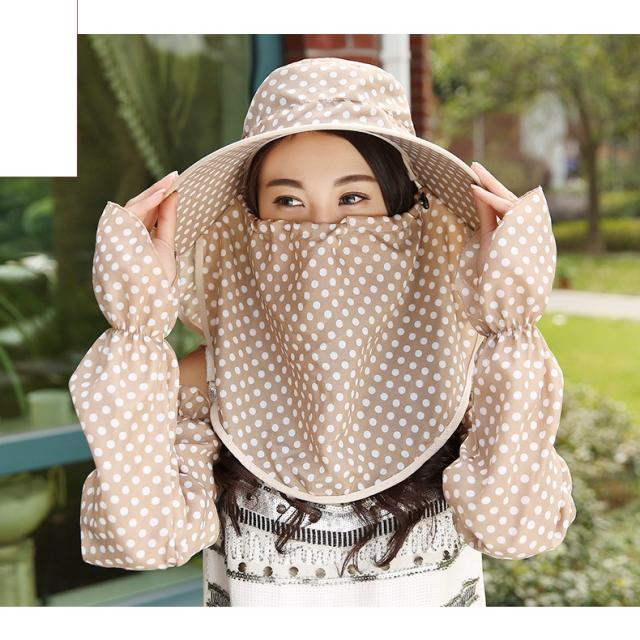mask: (251, 130, 395, 312)
